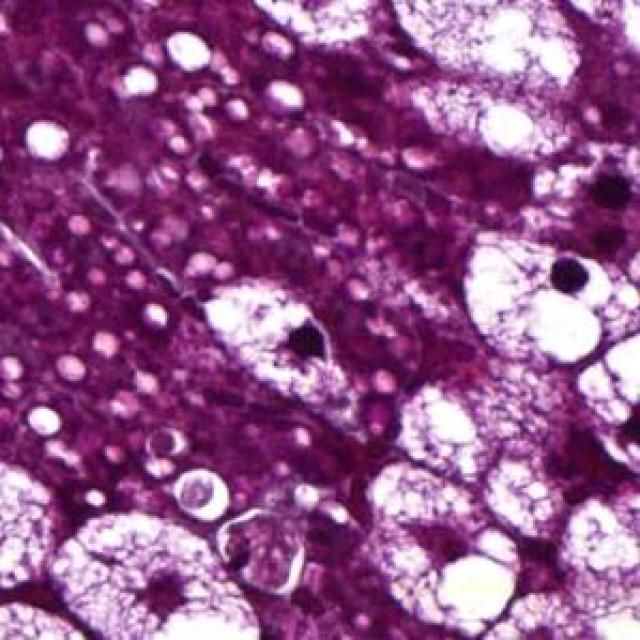ballooning: (45, 503, 263, 640), (362, 456, 524, 640), (462, 229, 616, 368), (201, 272, 345, 415)
